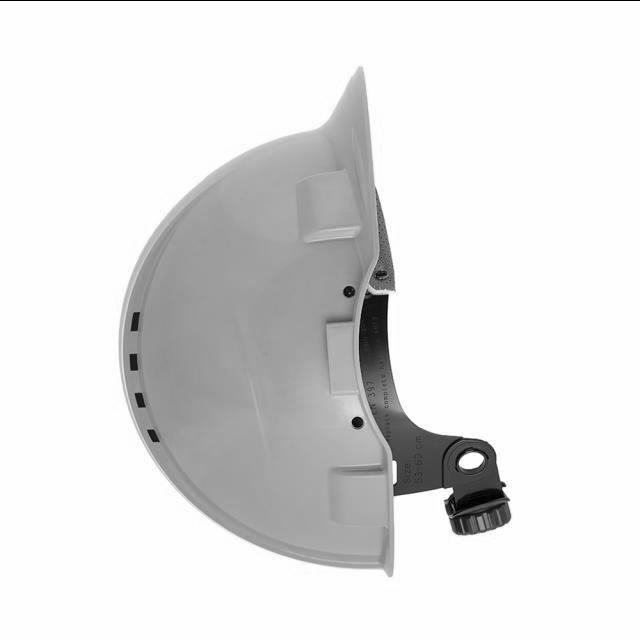construction helmet: (119, 63, 513, 577)
